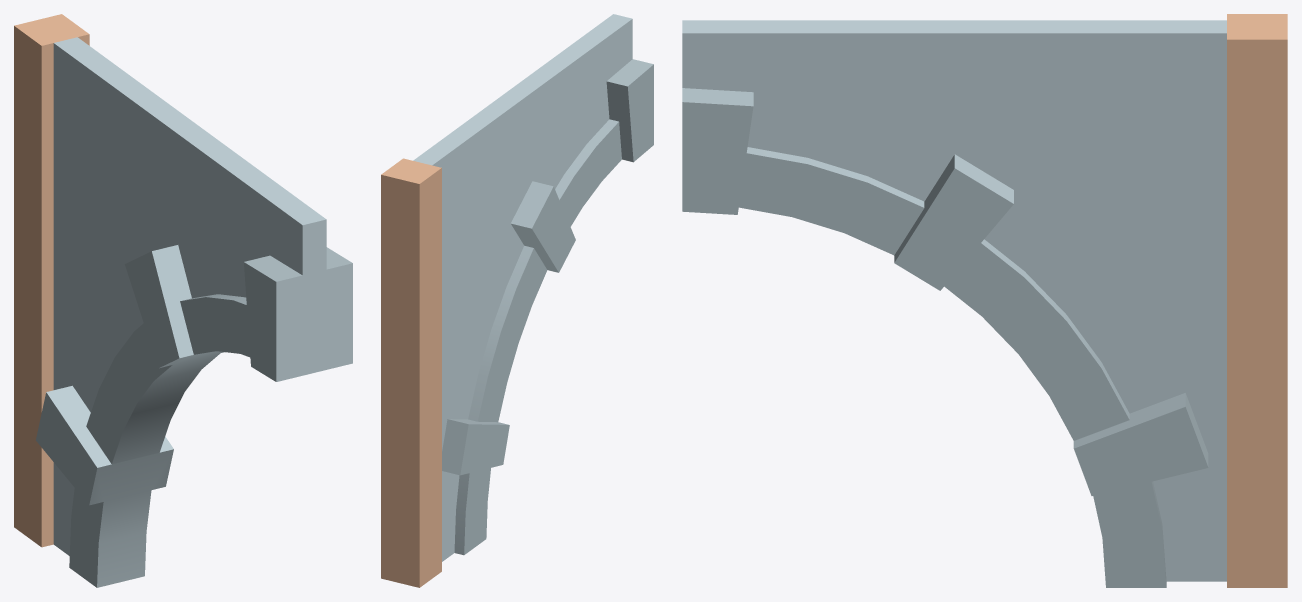
The model's file is wallArchTopDetail.glb.
3 views of the same model, side by side, from view 1: azimuth 30°, elevation 25°; view 2: azimuth 150°, elevation 25°; view 3: azimuth 270°, elevation 25° (orthographic). The views are drawn at different scales.
Parts seen in each view (by area): view 1: wallArchTopDetail; view 2: wallArchTopDetail; view 3: wallArchTopDetail.
Boxes of the visible parts, x1,y1,x2,y2 form: wallArchTopDetail: (14, 14, 352, 587); wallArchTopDetail: (381, 14, 653, 587); wallArchTopDetail: (682, 14, 1287, 587).
Bounding box in the file's own units: 0.16 × 1 × 1.
